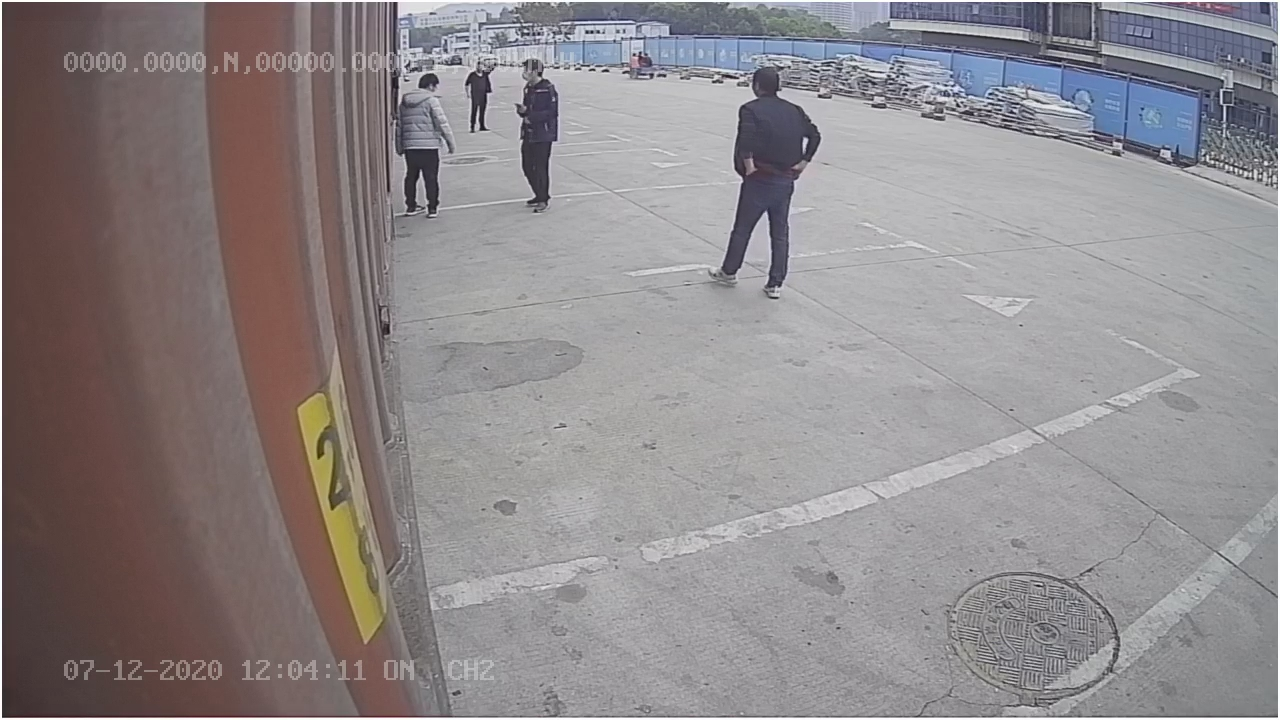person: (705, 65, 822, 301)
